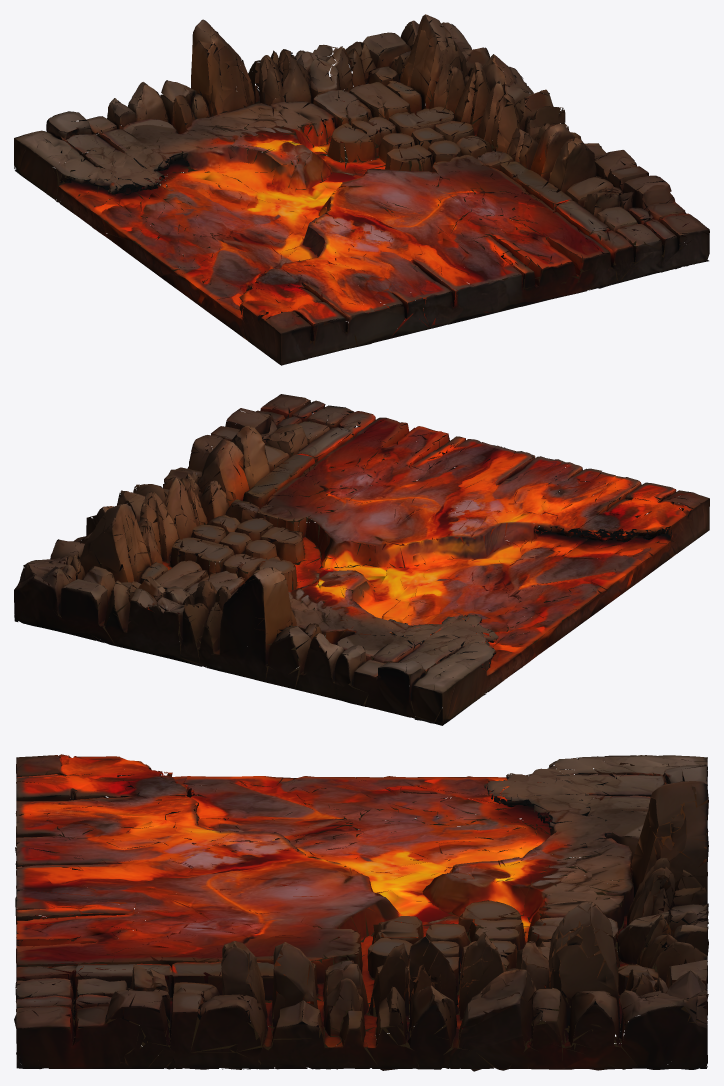
File: decor_lava_crack.gltf
3 views of the same model, one above another, from view 1: azimuth 30°, elevation 25°; view 2: azimuth 150°, elevation 25°; view 3: azimuth 270°, elevation 25° (orthographic). The views are drawn at different scales.
Visible parts, largest first — view 1: model; view 2: model; view 3: model.
Boxes of the visible parts, x1=… form: model: x1=14, y1=14, x2=709, y2=365; model: x1=14, y1=394, x2=709, y2=725; model: x1=14, y1=754, x2=708, y2=1071.
Size of the model in its own units: 1.63 by 0.3887 by 1.76.
Materials: 1 (1 with a texture image).
